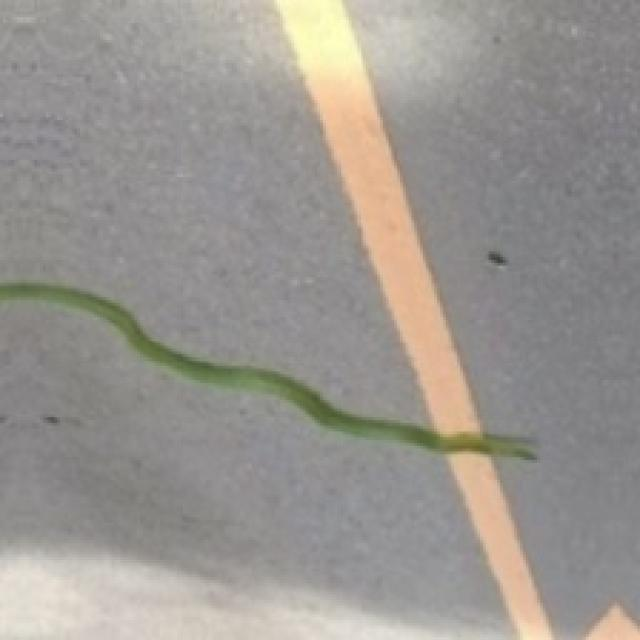red-tailed green ratsnake: (0, 283, 534, 457)
